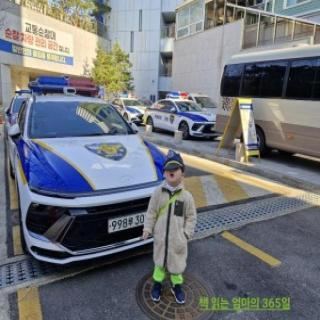Police_car: (10, 71, 172, 279), (140, 87, 222, 141), (3, 82, 57, 159), (107, 90, 149, 126)
